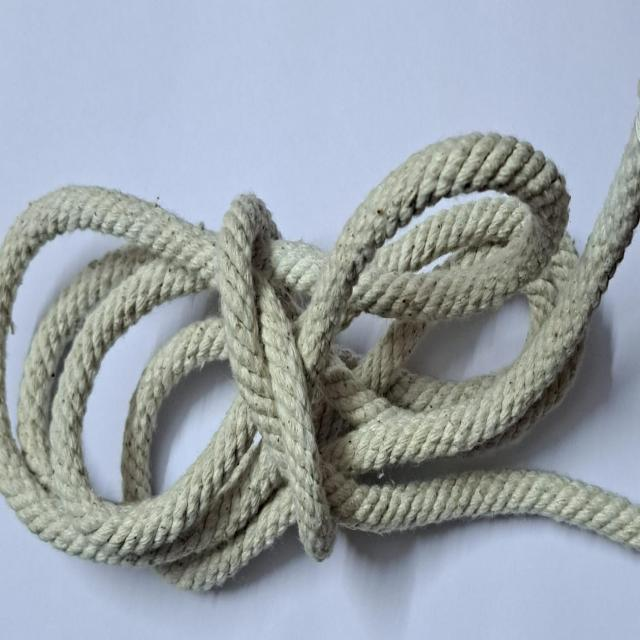Rope: (0, 115, 640, 600)
